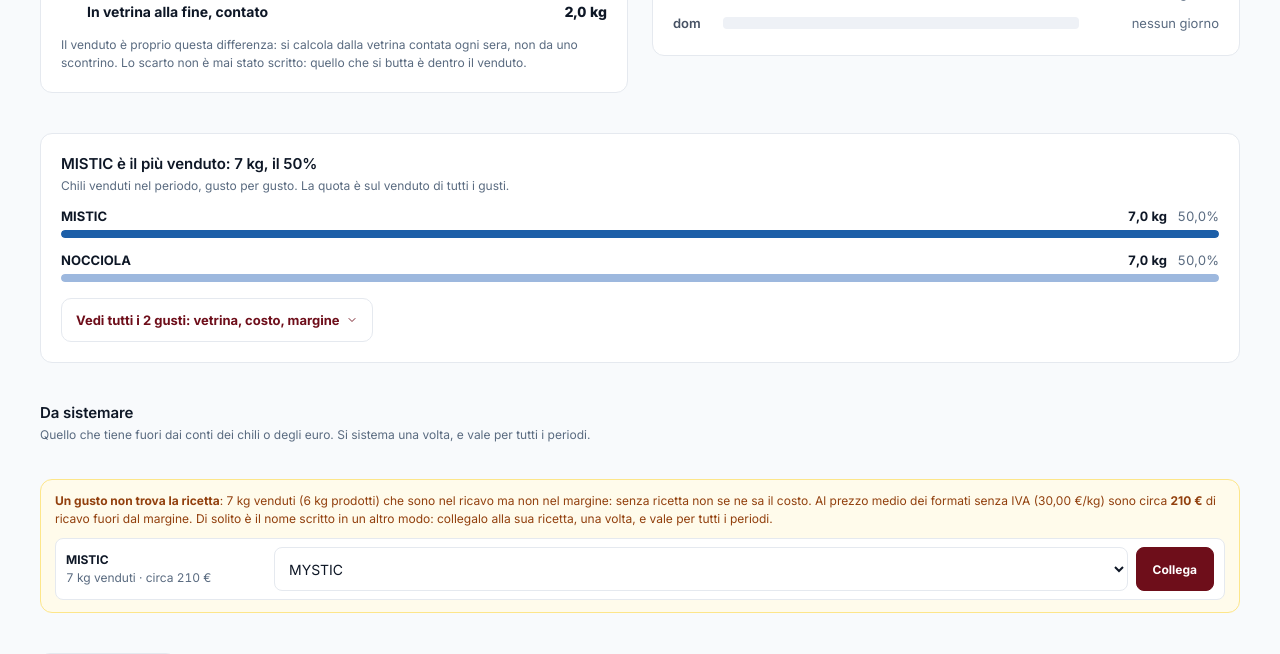
Lo Storico dice quanto vale il gusto senza ricetta e lo fa collegare › se il salvataggio non va, non cambia niente e lo dice
The width and height of the screenshot is (1280, 654).
(page scrolled)
expect the dropdown named "Ricetta di MISTIC" shows "MYSTIC": met, box x1=274 y1=547 x2=1128 y2=591
Click the button "Collega" at (1175, 569), box x1=1136 y1=547 x2=1214 y2=591
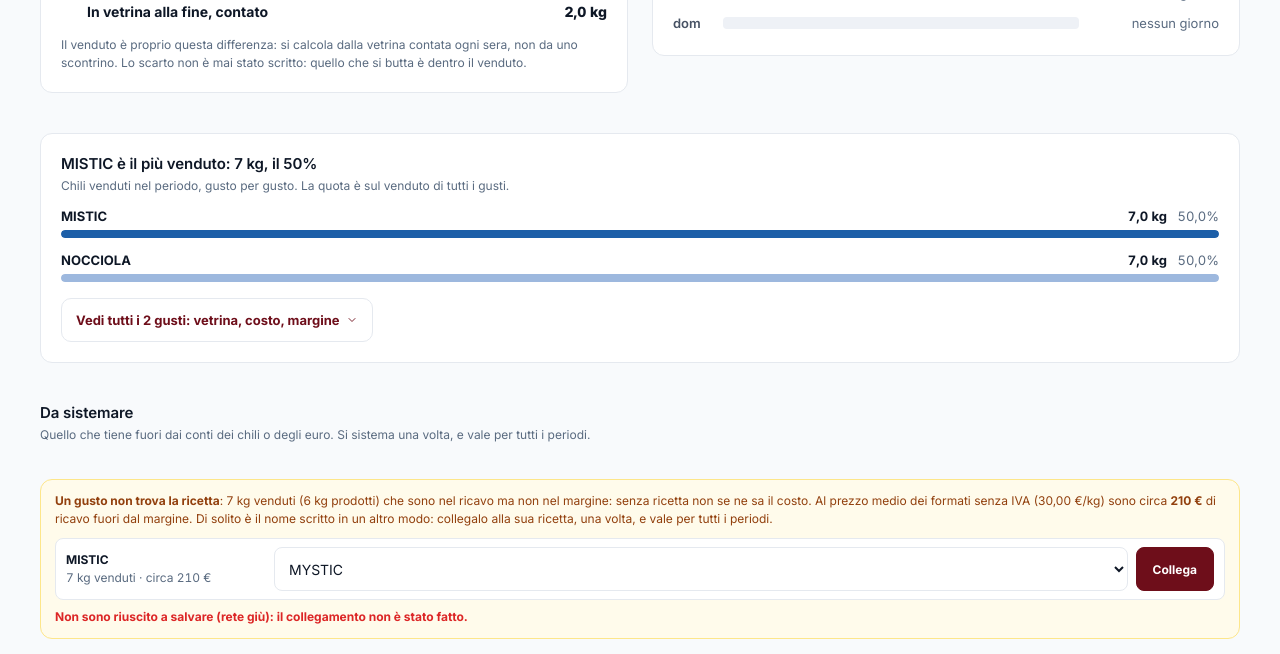
expect the text "Un gusto non trova la ricetta" is shown: met, box x1=55 y1=493 x2=220 y2=508
expect the text "Non sono riuscito a salvare (rete giù)" is shown: met, box x1=55 y1=609 x2=468 y2=624
